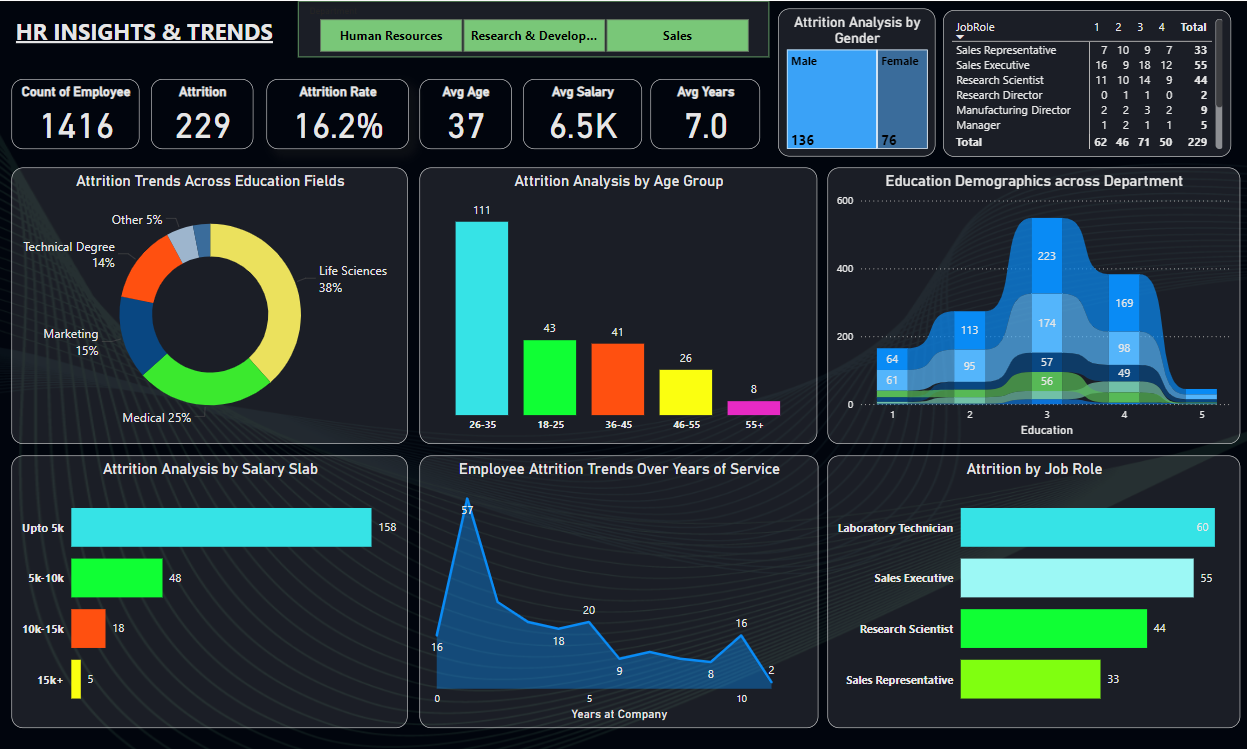

This screenshot's page, from the dashboard's own definition file:
{"tool":"powerbi","page":{"name":"Page 1","canvas":[1500,900],"ordinal":0},"visuals":[{"type":"card","title":"Count of Employee","fields":{"Values":["CountNonNull(HR_Analytics.EmpID)"]},"box":[16.8,93.6,153.7,83.8],"z":0},{"type":"card","title":"Attrition","fields":{"Values":["Sum(HR_Analytics.AttritionCount)"]},"box":[183,93.6,122.9,83.8],"z":1000},{"type":"card","title":"Attrition Rate","fields":{"Values":["HR_Analytics.AttritionRate"]},"box":[321.3,93.6,170.4,83.8],"z":2000},{"type":"card","title":"Avg Age","fields":{"Values":["Avg(HR_Analytics.Age)"]},"box":[505.7,93.6,110.4,83.8],"z":3000},{"type":"card","title":"Avg Salary","fields":{"Values":["Avg(HR_Analytics.MonthlyIncome)"]},"box":[630,93.6,142.5,83.8],"z":4000},{"type":"card","title":"Avg Years","fields":{"Values":["Avg(HR_Analytics.YearsAtCompany)"]},"box":[782.3,93.6,131.3,83.8],"z":5000},{"type":"pieChart","title":"Attrition Trends Across Education Fields","fields":{"Category":["HR_Analytics.EducationField"],"Y":["Sum(HR_Analytics.AttritionCount)"]},"box":[16.8,199.8,474.9,331.1],"z":6000},{"type":"columnChart","title":"Attrition Analysis by Age Group","fields":{"Category":["HR_Analytics.AgeGroup"],"Y":["Sum(HR_Analytics.AttritionCount)"]},"box":[505.7,199.8,476.3,331.1],"z":7000},{"type":"pivotTable","fields":{"Rows":["HR_Analytics.JobRole"],"Columns":["HR_Analytics.JobSatisfaction"],"Values":["Sum(HR_Analytics.AttritionCount)"]},"box":[1132.9,11.2,345,176],"z":8000},{"type":"barChart","title":"Attrition Analysis by Salary Slab","fields":{"Category":["HR_Analytics.SalarySlab"],"Y":["Sum(HR_Analytics.AttritionCount)"]},"box":[16.8,544.8,474.9,326.9],"z":9000},{"type":"barChart","title":"Attrition by Job Role","fields":{"Category":["HR_Analytics.JobRole"],"Y":["Sum(HR_Analytics.AttritionCount)"]},"box":[994.6,544.8,494.5,326.9],"z":10000},{"type":"areaChart","title":"Employee Attrition Trends Over Years of Service","fields":{"Category":["HR_Analytics.YearsAtCompany"],"Y":["Sum(HR_Analytics.AttritionCount)"]},"box":[505.7,544.8,477.7,326.9],"z":11000},{"type":"treemap","title":"Attrition Analysis by Gender","fields":{"Group":["HR_Analytics.Gender"],"Values":["Sum(HR_Analytics.AttritionCount)"]},"box":[934.5,9.8,188.6,177.4],"z":12000},{"type":"slicer","fields":{"Values":["HR_Analytics.Department"]},"box":[360.4,0,564.4,67.1],"z":13000},{"type":"textbox","box":[16.6,11.8,334,55.7],"z":14000},{"type":"ribbonChart","title":"Education Demographics across Department ","fields":{"Y":["CountNonNull(HR_Analytics.Department)"],"Category":["HR_Analytics.Education"],"Series":["HR_Analytics.EducationField"]},"box":[994.6,199.8,494.5,331.1],"z":15000}]}

Visuals, with their boxes in screenshot pixels (x1, y1, x2, y2), scaled from the page's 1500x900 canvas onto the 1247x749 screenshot:
"Count of Employee" card: box(14, 78, 142, 148)
"Attrition" card: box(152, 78, 254, 148)
"Attrition Rate" card: box(267, 78, 409, 148)
"Avg Age" card: box(420, 78, 512, 148)
"Avg Salary" card: box(524, 78, 642, 148)
"Avg Years" card: box(650, 78, 760, 148)
"Attrition Trends Across Education Fields" pieChart: box(14, 166, 409, 442)
"Attrition Analysis by Age Group" columnChart: box(420, 166, 816, 442)
pivotTable - HR_Analytics.JobRole x HR_Analytics.JobSatisfaction: box(942, 9, 1229, 156)
"Attrition Analysis by Salary Slab" barChart: box(14, 453, 409, 725)
"Attrition by Job Role" barChart: box(827, 453, 1238, 725)
"Employee Attrition Trends Over Years of Service" areaChart: box(420, 453, 818, 725)
"Attrition Analysis by Gender" treemap: box(777, 8, 934, 156)
slicer - HR_Analytics.Department: box(300, 0, 769, 56)
textbox: box(14, 10, 291, 56)
"Education Demographics across Department " ribbonChart: box(827, 166, 1238, 442)
